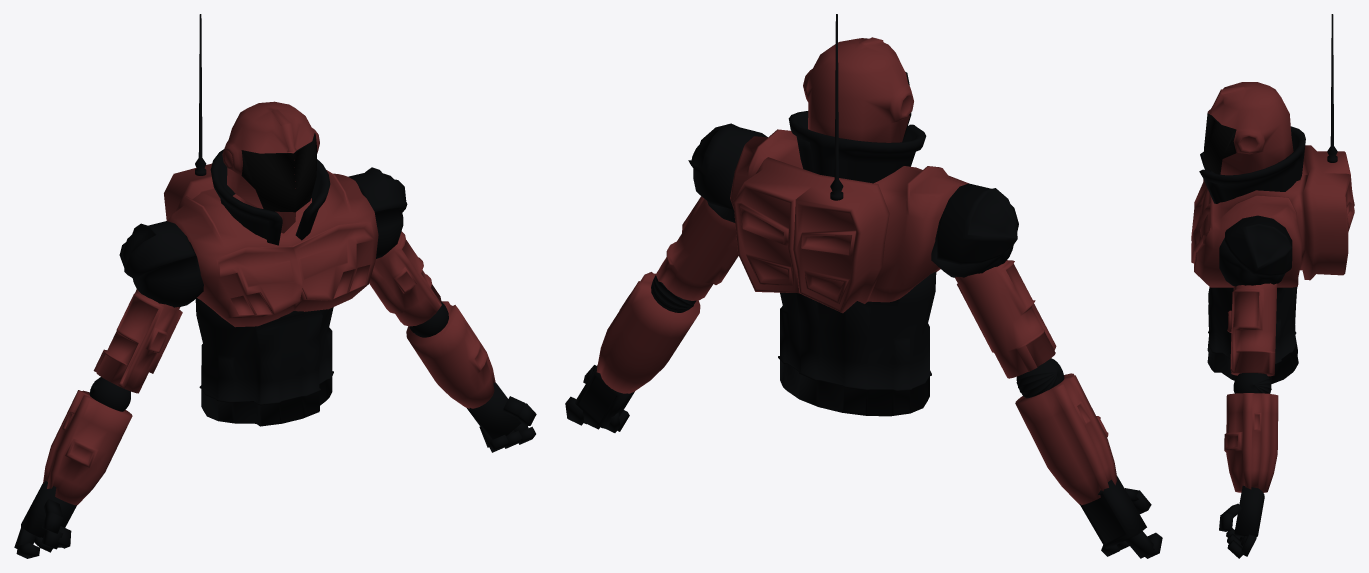
The model's file is player_prototipo_4.obj.
3 renders of one model, left to right at view 1: azimuth 30°, elevation 25°; view 2: azimuth 150°, elevation 25°; view 3: azimuth 270°, elevation 25°, orthographic. The views are drawn at different scales.
Parts seen in each view (by area): view 1: Box001, Cylinder010, Cone001, Cylinder007, Sphere009, Cylinder005, Cylinder008, Cylinder006, Cone002, Sphere007, Box012, Box003 (+3 smaller); view 2: Box001, Cylinder010, Cone001, Cylinder007, Cylinder008, Cylinder005, Sphere009, Cylinder006, Cone002, Sphere007, Box003, Box012 (+3 smaller); view 3: Box001, Cone001, Cylinder005, Sphere007, Cylinder006, Cylinder010, Cone002, Box012, Sphere008, Cylinder009, Box016.
Part boxes in pixels (x1,y1,x2,y2): Box001: (164,163,378,327); Cylinder010: (195,298,333,426); Cone001: (222,101,319,233); Cylinder007: (43,390,132,505); Sphere009: (119,221,203,307); Cylinder005: (406,301,495,408); Cylinder008: (93,289,182,393); Cylinder006: (369,231,441,326); Cone002: (210,149,330,245); Sphere007: (348,167,407,258); Box012: (467,382,521,439); Box003: (21,480,76,537); Box001: (730,129,968,313); Cylinder010: (778,271,936,416); Cone001: (803,37,913,142); Cylinder007: (1015,373,1117,505); Cylinder008: (955,260,1056,378); Cylinder005: (596,272,700,393); Sphere009: (931,183,1018,277); Cylinder006: (655,196,738,300); Cone002: (788,111,926,183); Sphere007: (688,123,767,222); Box003: (1079,476,1146,548); Box012: (575,365,634,428); Box001: (1191,145,1354,287); Cone001: (1204,82,1293,175); Cylinder005: (1224,393,1278,492); Sphere007: (1219,215,1292,286); Cylinder006: (1227,283,1277,376); Cylinder010: (1207,287,1298,383); Cone002: (1199,126,1305,203); Box012: (1234,485,1264,537); Sphere008: (1233,373,1271,393); Cylinder009: (1327,14,1337,162); Box016: (1219,513,1233,531).
Size of the model in its own units: 80.6 by 68.93 by 24.23.
